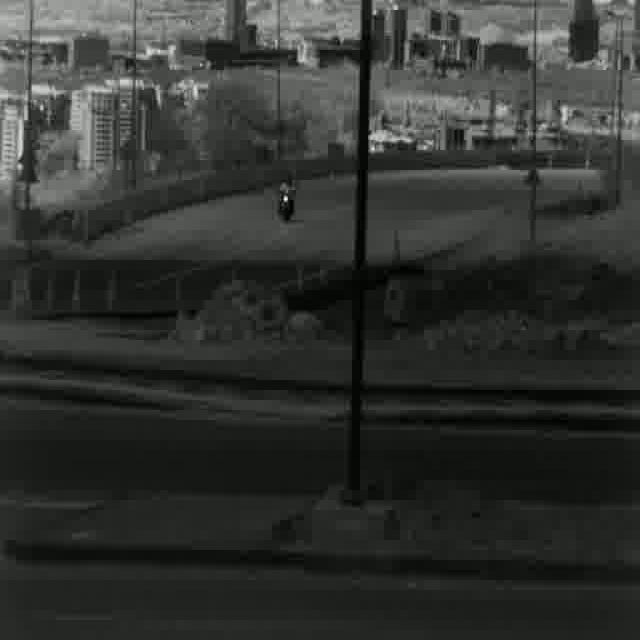Motorcycle: (272, 169, 295, 221)
